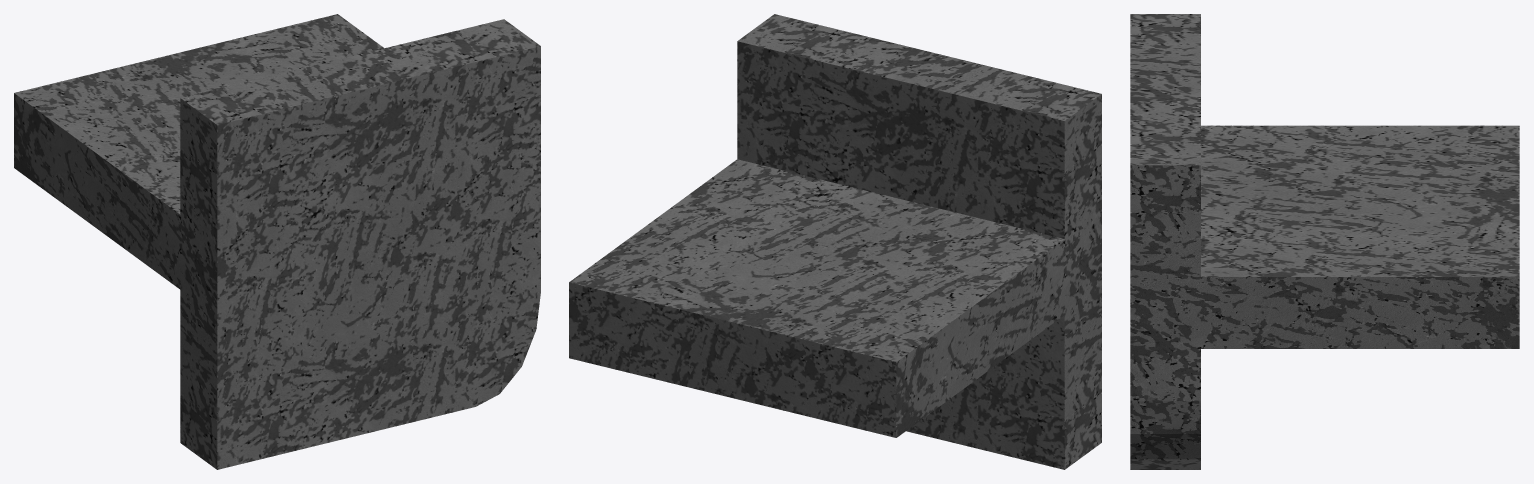
The model's file is mueble.dae.
The picture shows the model from 3 angles, left to right: view 1: azimuth 30°, elevation 25°; view 2: azimuth 150°, elevation 25°; view 3: azimuth 270°, elevation 25°; orthographic projection. The views are drawn at different scales.
Visible parts, largest first — view 1: node; view 2: node; view 3: node.
Part boxes in pixels (left/top/right/bottom): node: left=14, top=14, right=540, bottom=469; node: left=569, top=14, right=1101, bottom=469; node: left=1130, top=14, right=1519, bottom=469.
Size of the model in its own units: 828 by 843 by 900.
Materials: 1 (1 with a texture image).
